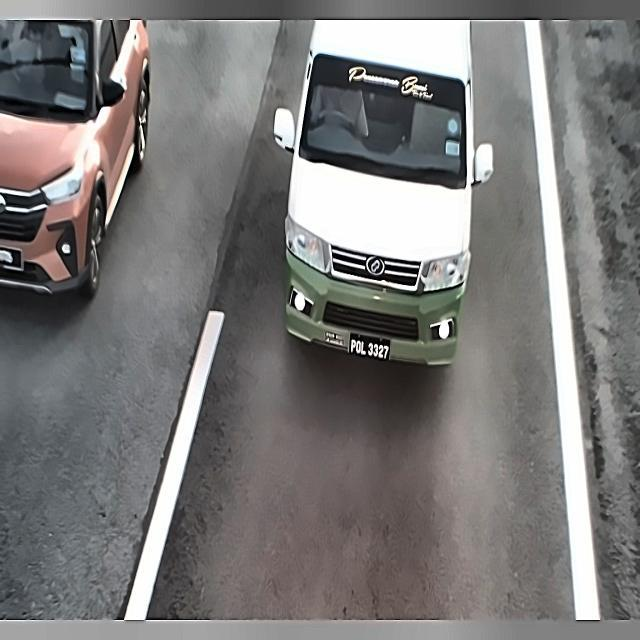car: (344, 328, 394, 369), (0, 246, 25, 275)
